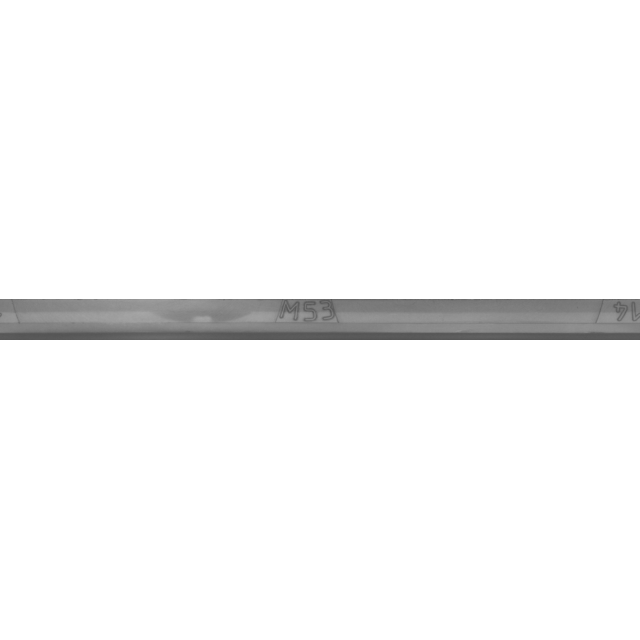mohao: (207, 270, 407, 370)
xuehao: (532, 270, 640, 370)
